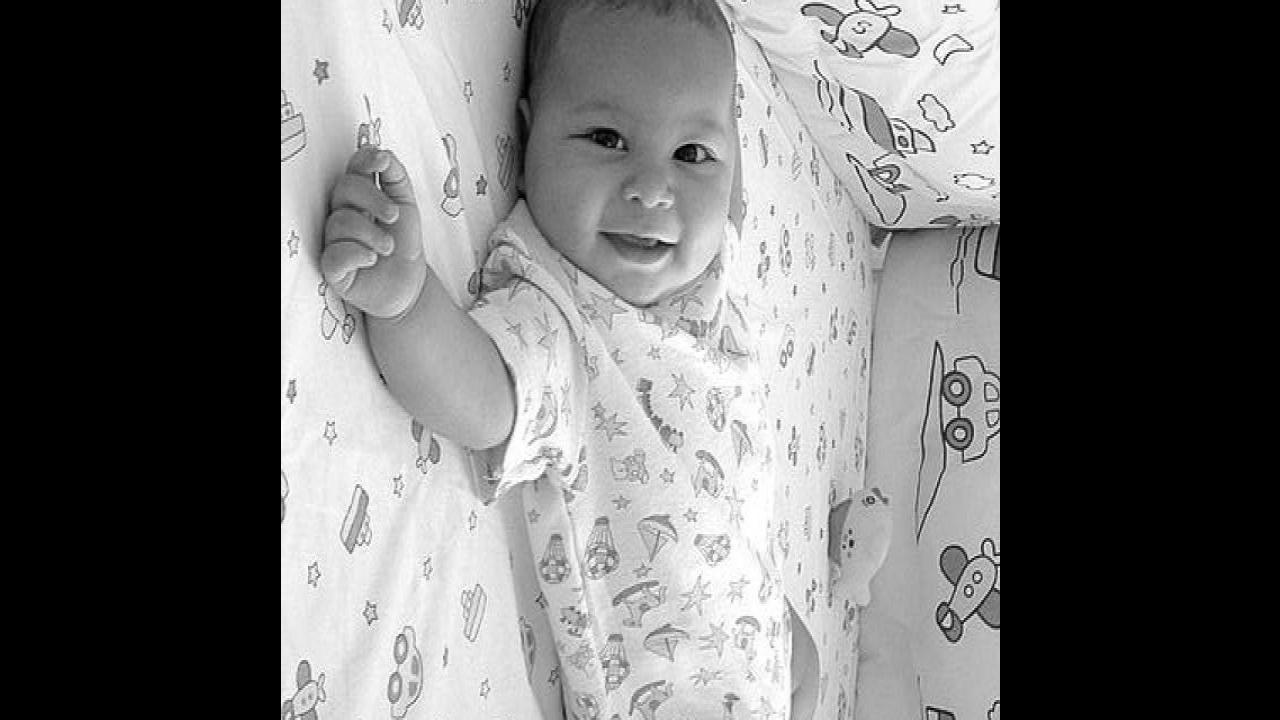hand: (316, 133, 428, 331)
